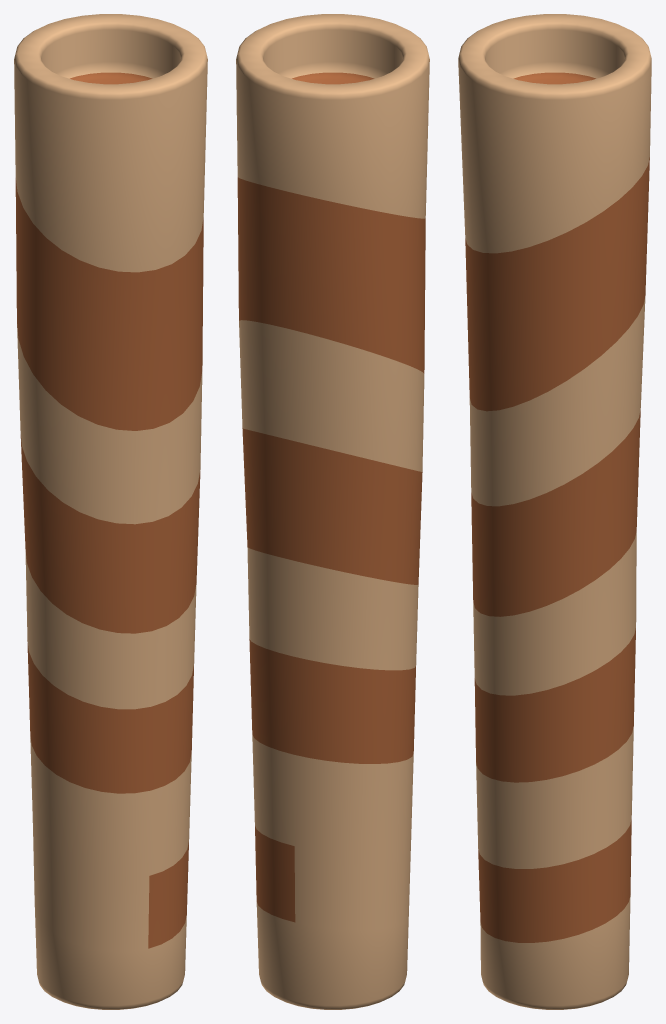
The model's file is Sweet_3.fbx.
The picture shows the model from 3 angles, left to right: view 1: azimuth 30°, elevation 25°; view 2: azimuth 150°, elevation 25°; view 3: azimuth 270°, elevation 25°; orthographic projection.
Visible parts, largest first — view 1: Sweet_3; view 2: Sweet_3; view 3: Sweet_3.
Boxes of the visible parts, left/top/right/bottom form: Sweet_3: left=14, top=14, right=207, bottom=1009; Sweet_3: left=236, top=14, right=429, bottom=1009; Sweet_3: left=458, top=14, right=651, bottom=1009.
Size of the model in its own units: 11.69 by 62.05 by 11.74.
